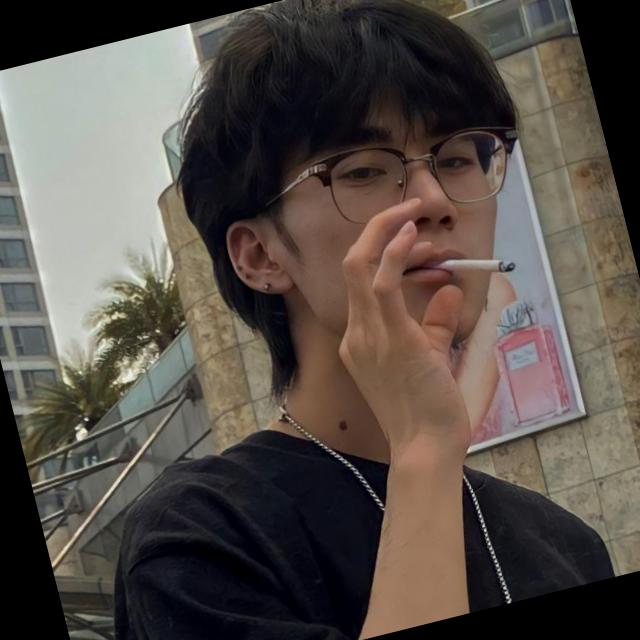smoke: (424, 234, 528, 300)
